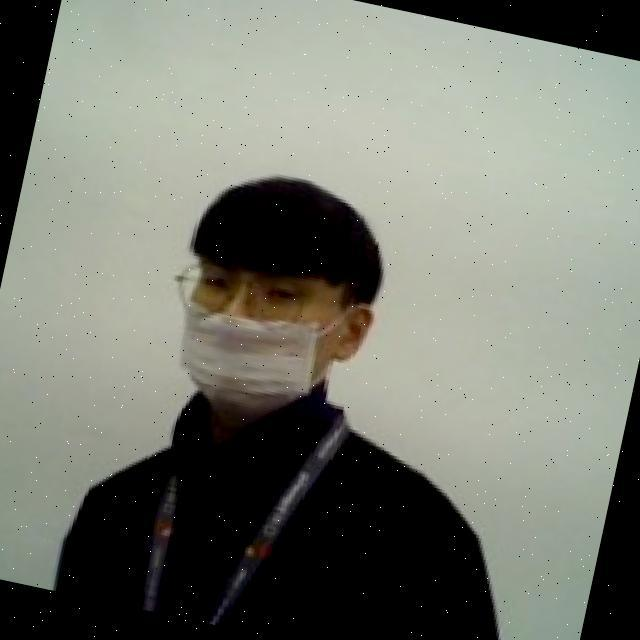mask: (154, 272, 376, 453)
no_gloves: (181, 153, 402, 312)
